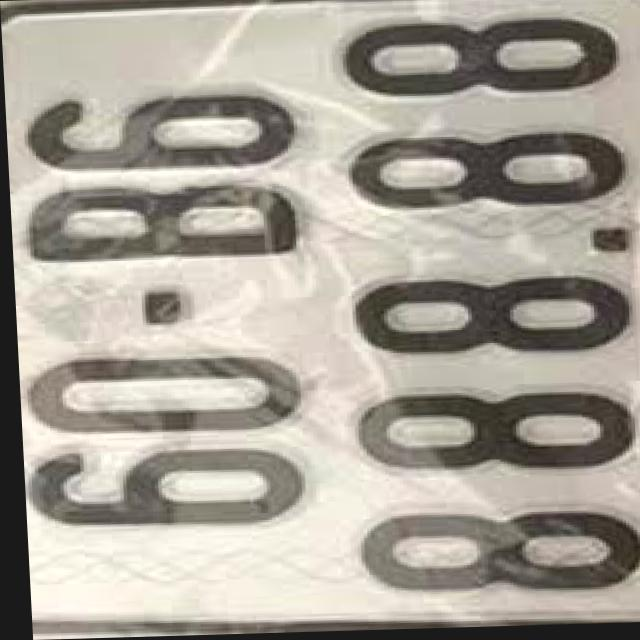a: (0, 0, 640, 640)
bien so: (0, 0, 640, 640)
